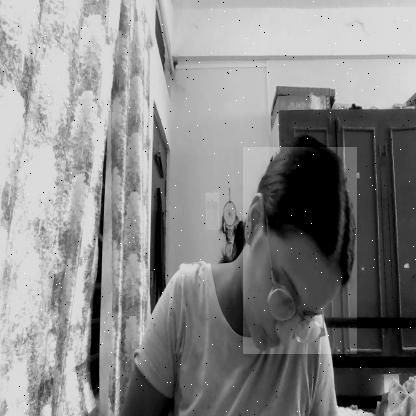Distracted: (243, 147, 357, 354)
